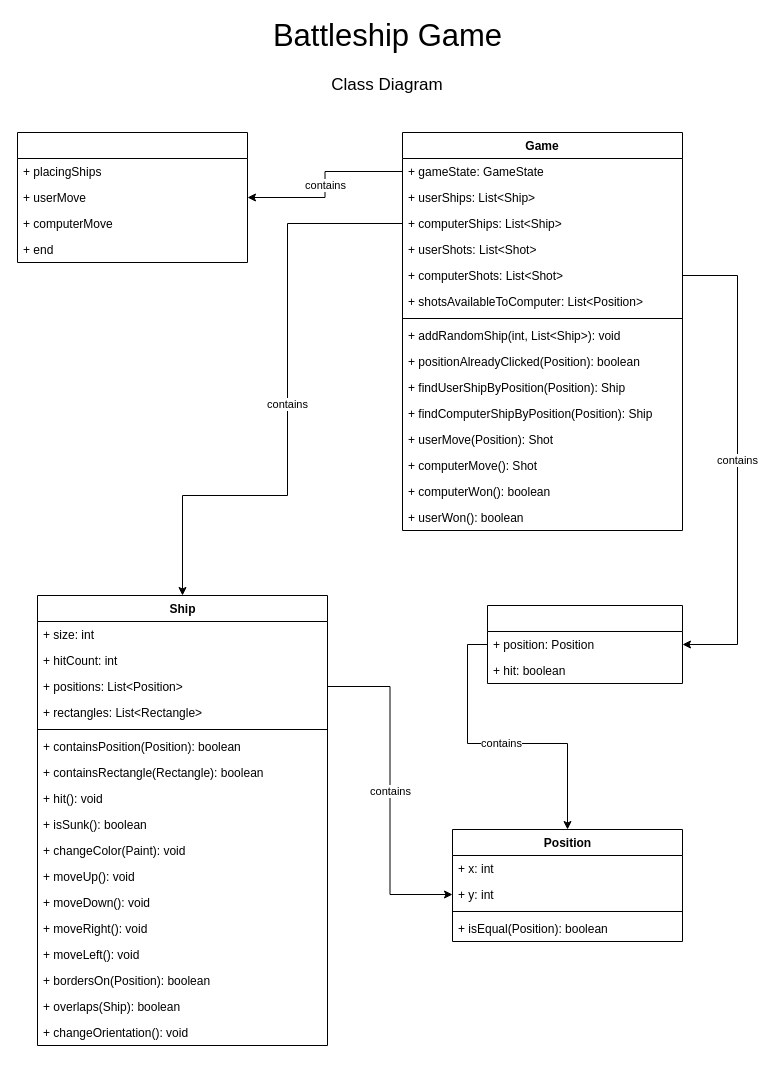
The diagram is 775 pixels wide and 1066 high, and some of its shapes have lost their labels. Here are the shapes that lost their labels. From the top down, the box of each, then its label:
(16, 132, 248, 262): enum GameState
(486, 604, 682, 684): Shot
